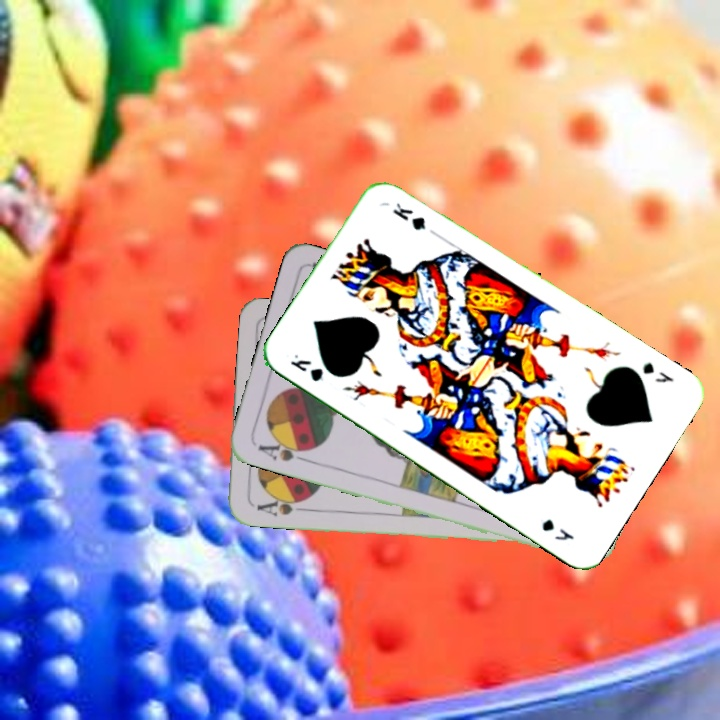GK: (286, 350, 327, 384), (638, 358, 677, 386)
SA: (254, 435, 313, 465), (252, 492, 309, 519)
